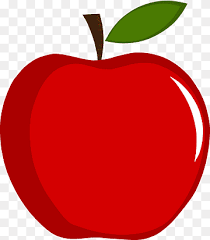apple: (1, 50, 210, 240)
